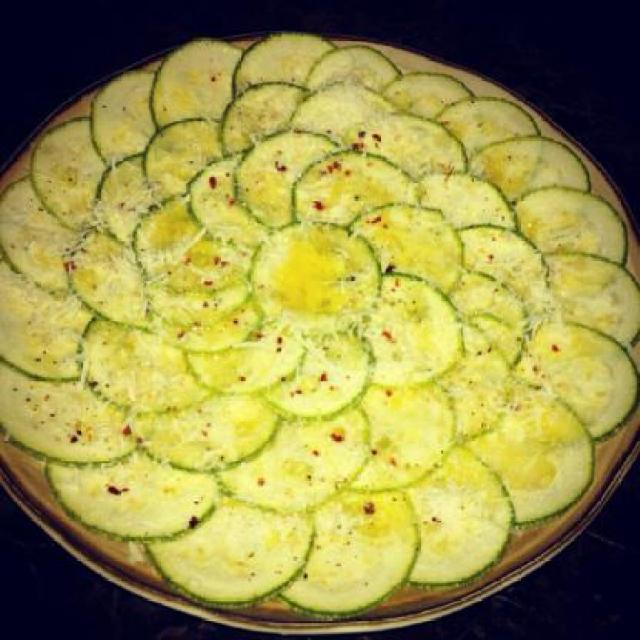Zucchini: (0, 0, 638, 607)
